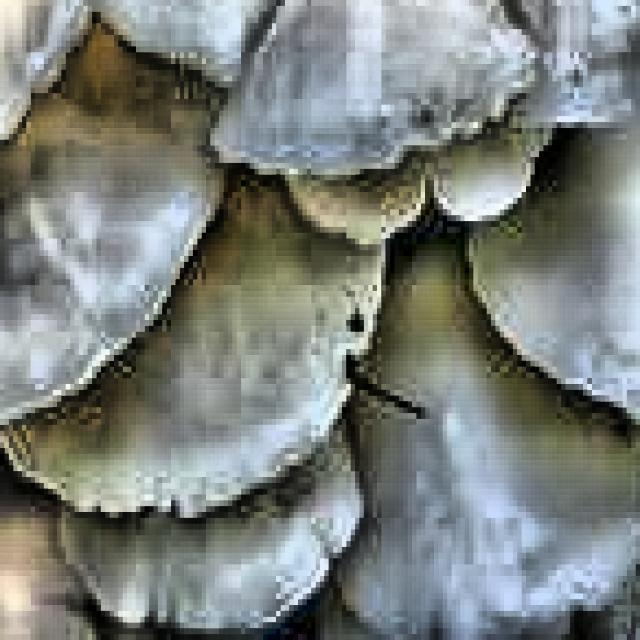Healthy: (0, 17, 395, 419)
